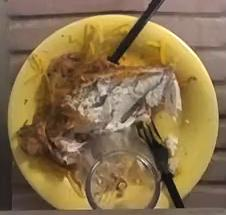chicken: (37, 54, 182, 137)
